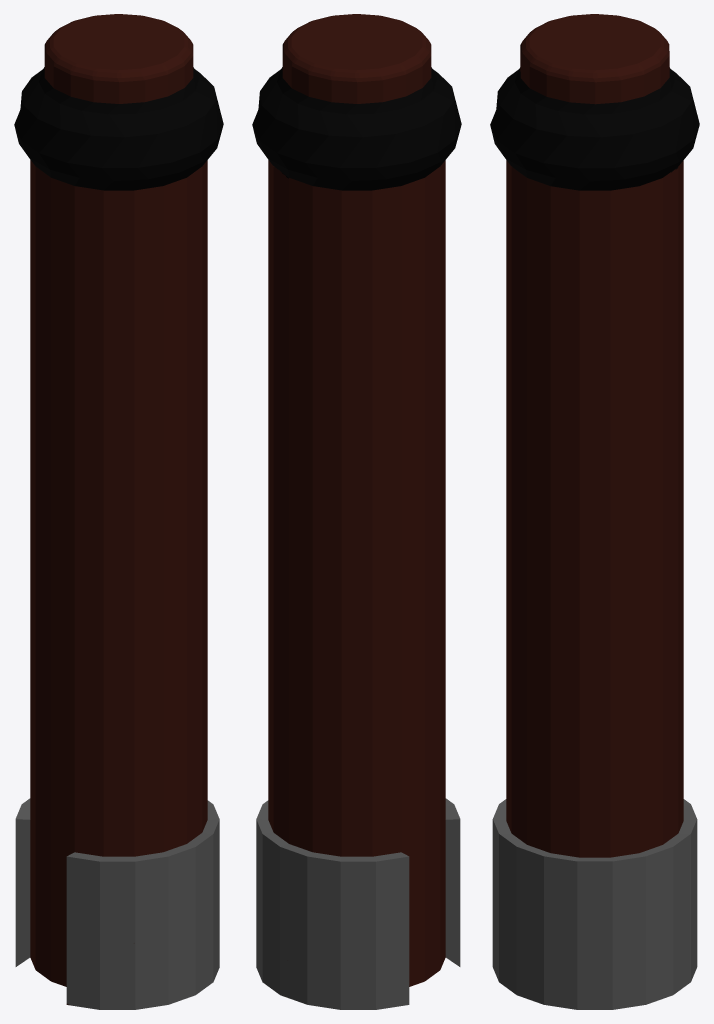
Rendered from RiseyPole.fbx.
3 views of the same model, side by side, from view 1: azimuth 30°, elevation 25°; view 2: azimuth 150°, elevation 25°; view 3: azimuth 270°, elevation 25° (orthographic).
Visible parts, largest first — view 1: Cylinder; view 2: Cylinder; view 3: Cylinder.
Boxes of the visible parts, x1,y1,x2,y2 form: Cylinder: (14,14,223,1009); Cylinder: (252,14,461,1009); Cylinder: (490,14,699,1009).
Bounding box in the file's own units: 233 × 1151 × 236.
1 material, 1 textured.
